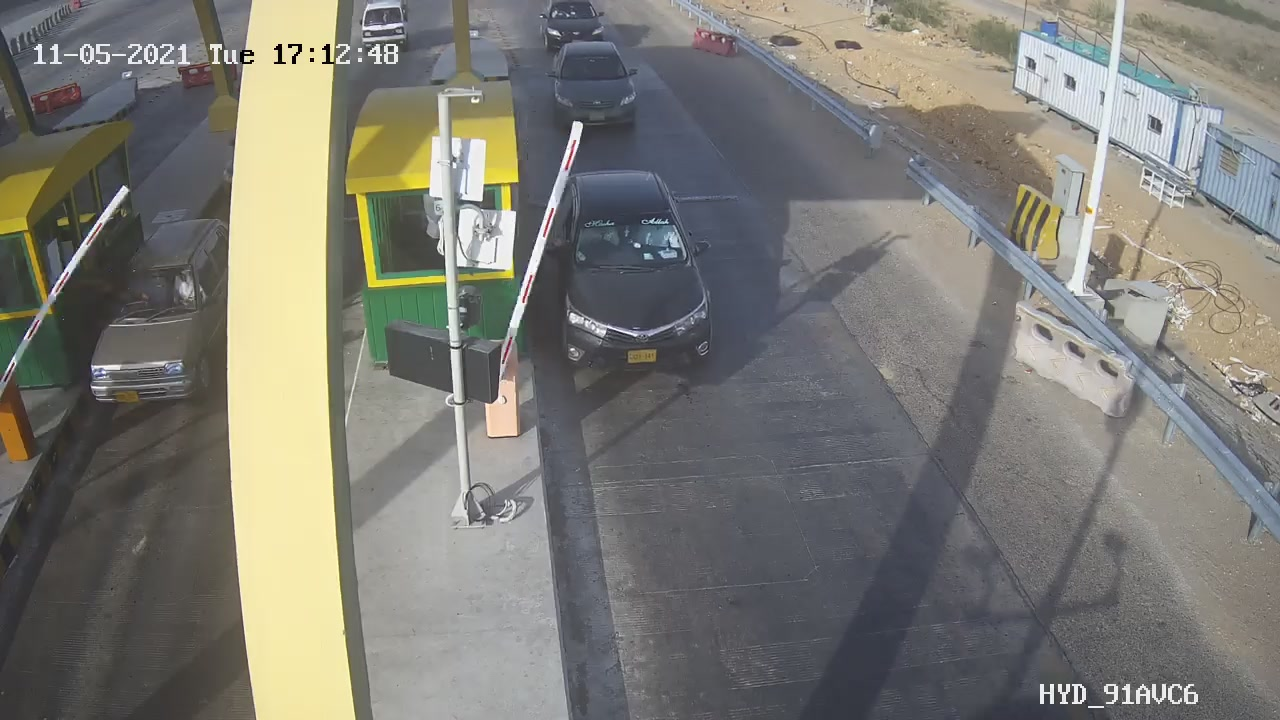F1: (535, 159, 739, 392), (530, 29, 657, 142)
